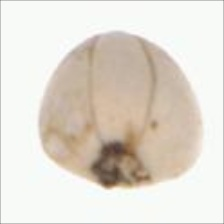L5: (86, 28, 159, 147), (86, 142, 156, 192)
L6: (35, 29, 205, 191)
